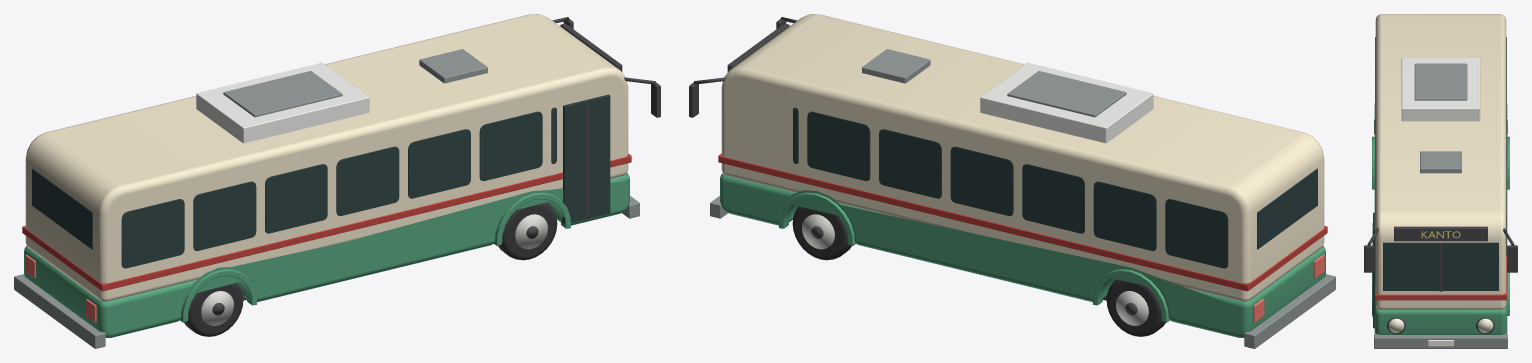
Rendered from bus_city.glb.
The picture shows the model from 3 angles, left to right: view 1: azimuth 30°, elevation 25°; view 2: azimuth 150°, elevation 25°; view 3: azimuth 270°, elevation 25°; orthographic projection. The views are drawn at different scales.
Parts seen in each view (by area): view 1: bus_city_body, bus_city_glass, bus_city_trim, bus_city_wheels, bus_city_round; view 2: bus_city_body, bus_city_glass, bus_city_trim, bus_city_wheels, bus_city_round; view 3: bus_city_body, bus_city_trim, bus_city_glass, bus_city_round, bus_city_letters.
Part boxes in pixels (<box>): bus_city_body: <box>24,14,629,337</box>; bus_city_glass: <box>32,94,610,268</box>; bus_city_trim: <box>14,19,660,348</box>; bus_city_wheels: <box>184,202,557,336</box>; bus_city_round: <box>201,17,655,325</box>; bus_city_body: <box>720,14,1325,337</box>; bus_city_glass: <box>793,107,1317,268</box>; bus_city_trim: <box>689,19,1335,348</box>; bus_city_wheels: <box>792,206,1165,336</box>; bus_city_round: <box>694,17,1148,325</box>; bus_city_body: <box>1374,14,1507,334</box>; bus_city_trim: <box>1364,58,1517,348</box>; bus_city_glass: <box>1373,37,1506,328</box>; bus_city_round: <box>1367,228,1514,334</box>; bus_city_letters: <box>1421,231,1460,238</box>.
Bounding box in the file's own units: 10.17 × 3.32 × 2.94.
